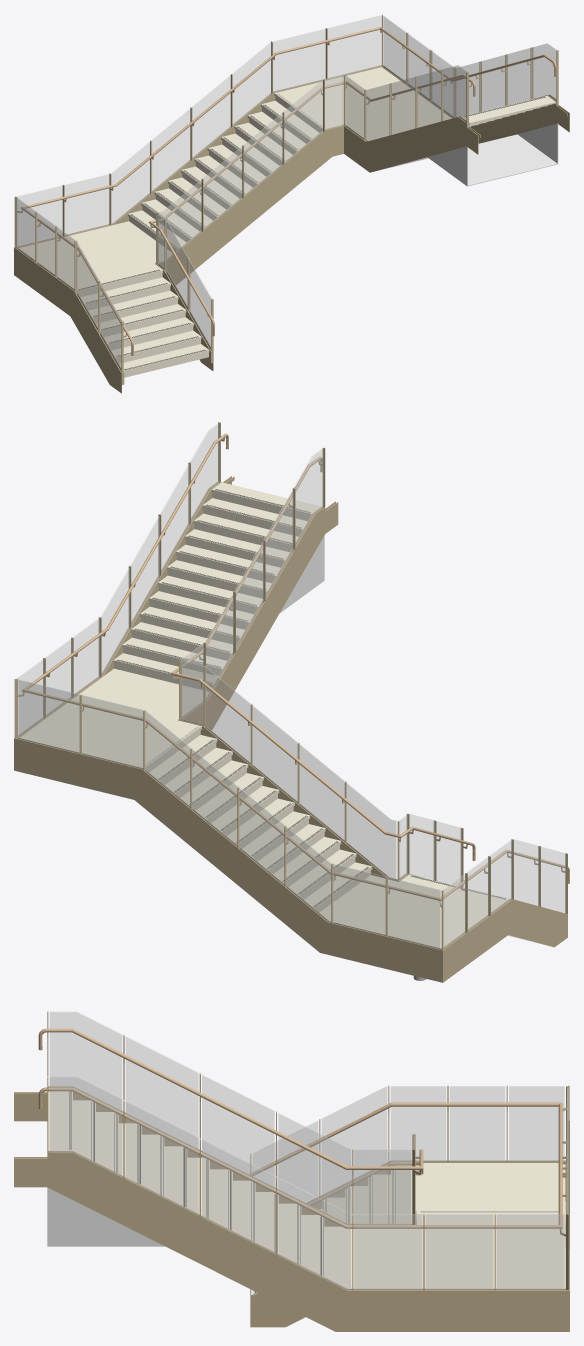
File: MAYA_DERIVE_AR-01.glb
The picture shows the model from 3 angles, top to bottom: view 1: azimuth 30°, elevation 25°; view 2: azimuth 150°, elevation 25°; view 3: azimuth 270°, elevation 25°; orthographic projection. The views are drawn at different scales.
Visible parts, largest first — view 1: RL2-01:1, =>[0:1:1:127], S2 SOFFIT WEDGE:1, K 3005_K 3005 B:2, G 3005_G 3005:1, G 3005_G 3005:2, K 5000_K 5000:1, G 3002_G 3002:2, K 3008_K 3017 B:1, G 3011_G 3011:1, G 3004_G 3004:5, G 3004_G 3004:6 (+53 smaller); view 2: RL2-01:1, =>[0:1:1:127], K 3005_K 3005 B:1, K 3005_K 3005 A:1, K 3005_K 3005 C:1, G 3005_G 3005:2, G 3005_G 3005:1, K 5000_K 5000:1, G 3002_G 3002:2, G 3002_G 3002:1, G 3011_G 3011:1, G 3004_G 3004:2 (+57 smaller); view 3: RL2-01:1, K 3008_K 3008 C:1, =>[0:1:1:127], K 3008_K 3008 A:1, K 3008_K 3008 B:1, G 3008_G 3008:1, G 3008_G 3008:2, G 3007_G 3007:1, G 3009_G 3009:1, G 3007_G 3007:4, G 3007_G 3007:2, G 3007_G 3007:3 (+35 smaller).
Part boxes in pixels (<box>): RL2-01:1: <box>274,67,451,140</box>; =>[0:1:1:127]: <box>19,221,172,292</box>; S2 SOFFIT WEDGE:1: <box>427,123,558,186</box>; K 3005_K 3005 B:2: <box>187,149,315,265</box>; G 3005_G 3005:1: <box>273,29,325,92</box>; G 3005_G 3005:2: <box>328,15,380,78</box>; K 5000_K 5000:1: <box>21,27,556,355</box>; G 3002_G 3002:2: <box>64,174,109,235</box>; K 3008_K 3017 B:1: <box>344,126,415,172</box>; G 3011_G 3011:1: <box>159,180,201,262</box>; G 3004_G 3004:5: <box>244,113,282,196</box>; G 3004_G 3004:6: <box>284,80,322,163</box>; RL2-01:1: <box>20,668,208,769</box>; =>[0:1:1:127]: <box>320,874,508,948</box>; K 3005_K 3005 B:1: <box>153,791,303,926</box>; K 3005_K 3005 A:1: <box>289,902,443,982</box>; K 3005_K 3005 C:1: <box>14,738,168,815</box>; G 3005_G 3005:2: <box>18,679,79,753</box>; G 3005_G 3005:1: <box>82,695,143,768</box>; K 5000_K 5000:1: <box>22,433,569,900</box>; G 3002_G 3002:2: <box>333,864,385,935</box>; G 3002_G 3002:1: <box>388,877,440,948</box>; G 3011_G 3011:1: <box>346,783,396,879</box>; G 3004_G 3004:2: <box>192,750,237,846</box>; RL2-01:1: <box>324,1211,565,1288</box>; K 3008_K 3008 C:1: <box>14,1152,216,1260</box>; =>[0:1:1:127]: <box>391,1163,565,1223</box>; K 3008_K 3008 A:1: <box>373,1290,568,1331</box>; K 3008_K 3008 B:1: <box>195,1225,373,1331</box>; G 3008_G 3008:1: <box>202,1139,274,1252</box>; G 3008_G 3008:2: <box>126,1101,198,1214</box>; G 3007_G 3007:1: <box>278,1178,350,1289</box>; G 3009_G 3009:1: <box>50,1076,121,1176</box>; G 3007_G 3007:4: <box>126,1036,198,1149</box>; G 3007_G 3007:2: <box>278,1113,350,1224</box>; G 3007_G 3007:3: <box>202,1075,274,1187</box>.
Bounding box in the file's own units: 0.8318 × 0.6532 × 0.7304.
